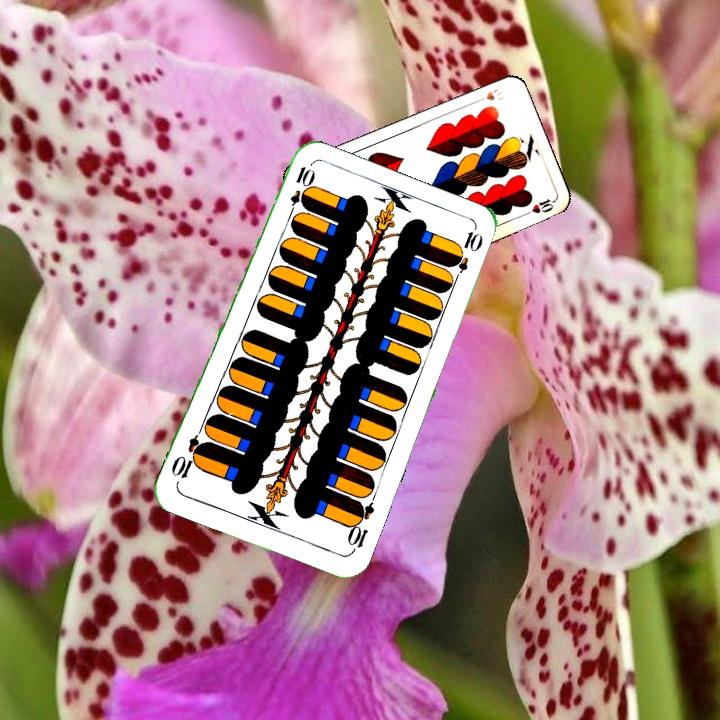E10: (343, 497, 377, 556), (284, 162, 314, 221)
H10: (471, 83, 508, 106)
